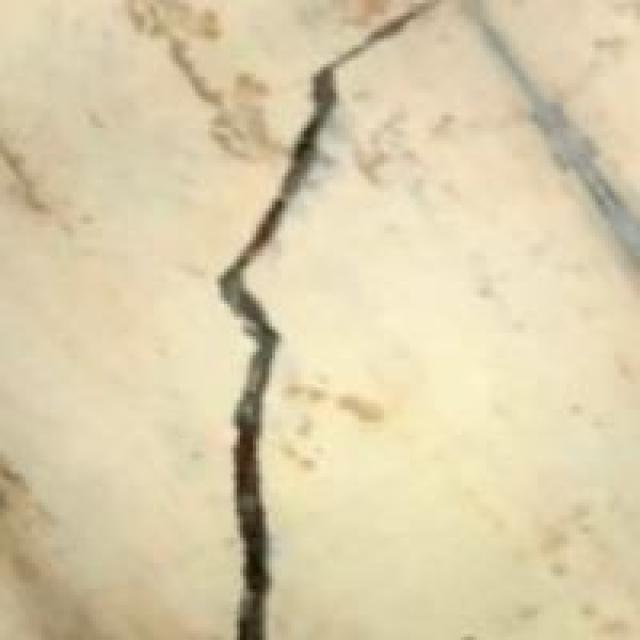crack: (198, 3, 416, 637)
